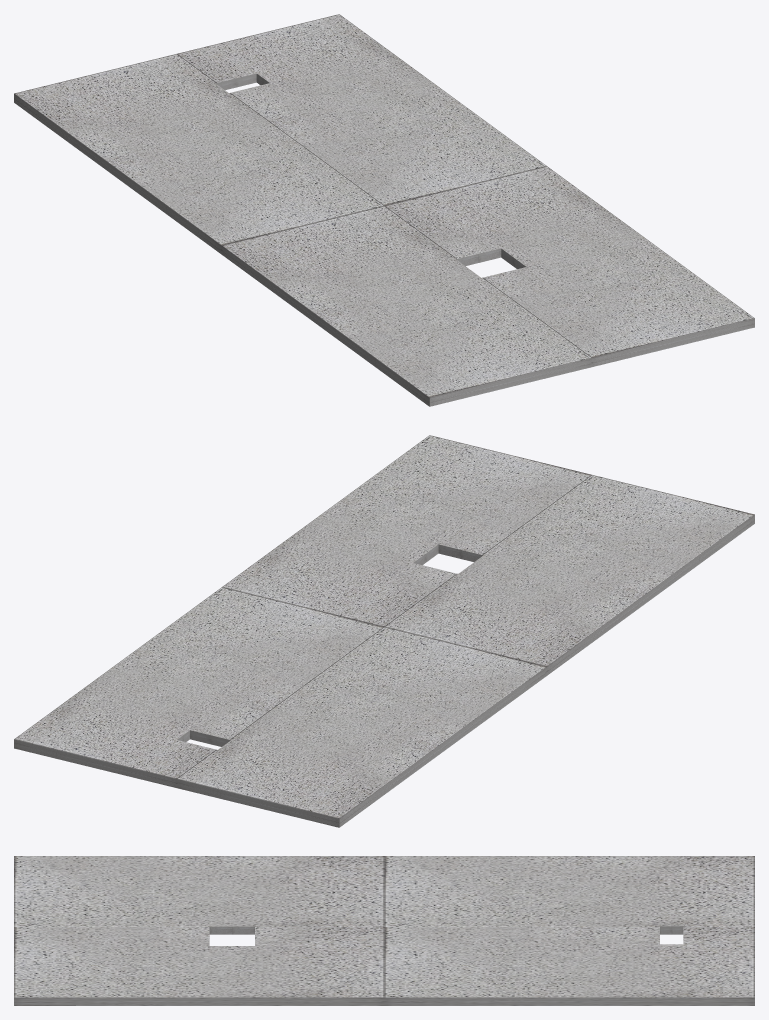
File: Floor_B1F.fbx
3 renders of one model, top to bottom at view 1: azimuth 30°, elevation 25°; view 2: azimuth 150°, elevation 25°; view 3: azimuth 270°, elevation 25°, orthographic. The views are drawn at different scales.
Visible parts, largest first — view 1: Floor_B1F; view 2: Floor_B1F; view 3: Floor_B1F.
Boxes of the visible parts, bbox=[...] form: Floor_B1F: bbox=[14, 14, 754, 406]; Floor_B1F: bbox=[14, 435, 754, 827]; Floor_B1F: bbox=[14, 856, 754, 1005].
Size of the model in its own units: 37.3 by 1 by 82.51.
Materials: 1 (1 with a texture image).
